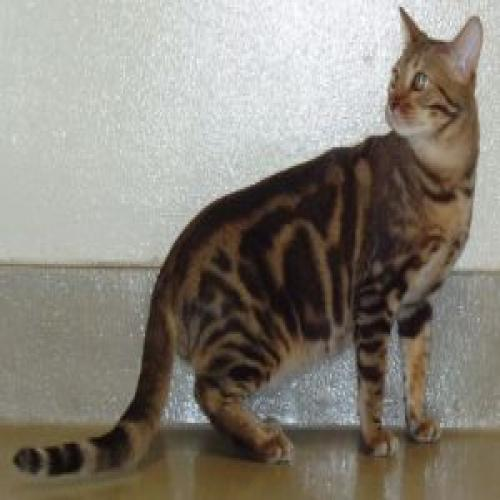cat-face: (368, 2, 497, 155)
